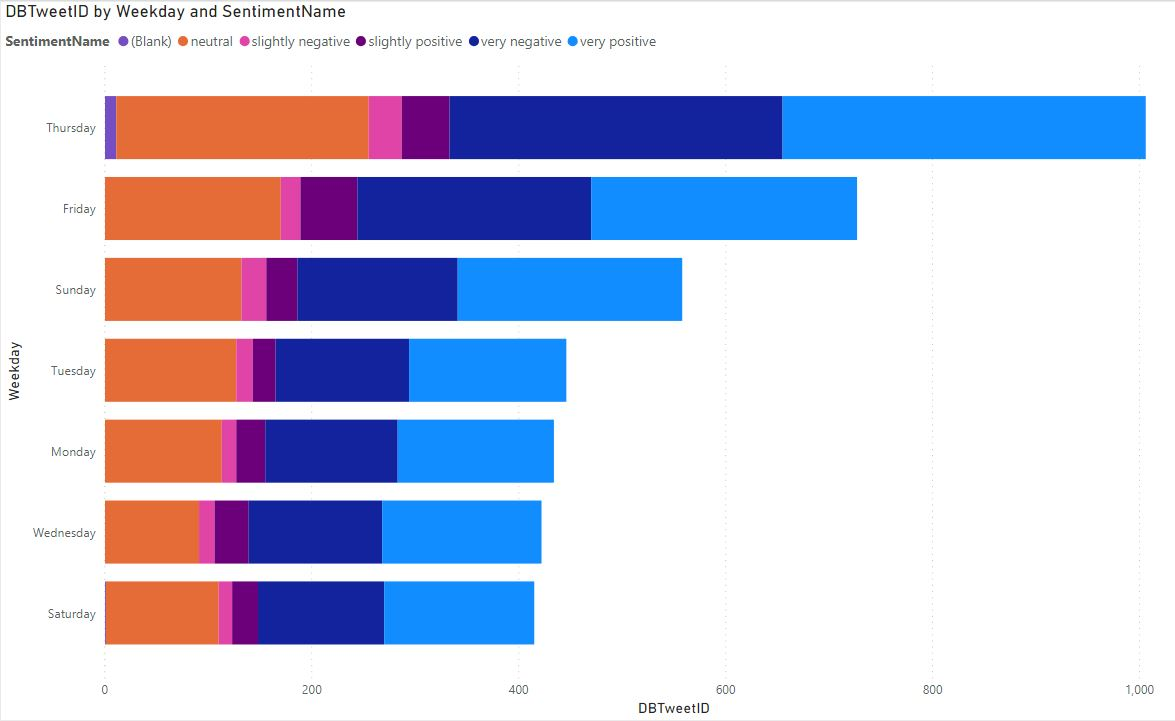

What the dashboard file says about the page in this screenshot:
{"tool":"powerbi","page":{"name":"Volume by day with sentiment","canvas":[1280,720],"ordinal":2},"visuals":[{"type":"barChart","fields":{"Category":["TwitterAssignmentDB TweetData.Weekday"],"Y":["CountNonNull(TwitterAssignmentDB TweetData.DBTweetID)"],"Series":["TwitterAssignmentDB SentimentValue.SentimentName"]},"box":[10.5,0,1228.8,700.5],"z":0}]}

Visuals, with their boxes on the page's 1280x720 design canvas (x1, y1, x2, y2). These are canvas units, not pixel positions in the 1175x721 screenshot, which may show the page scaled, cropped or inside an application window:
barChart - TwitterAssignmentDB TweetData.Weekday x CountNonNull(TwitterAssignmentDB TweetData.DBTweetID): pyautogui.locateOnScreen(10, 0, 1239, 700)
